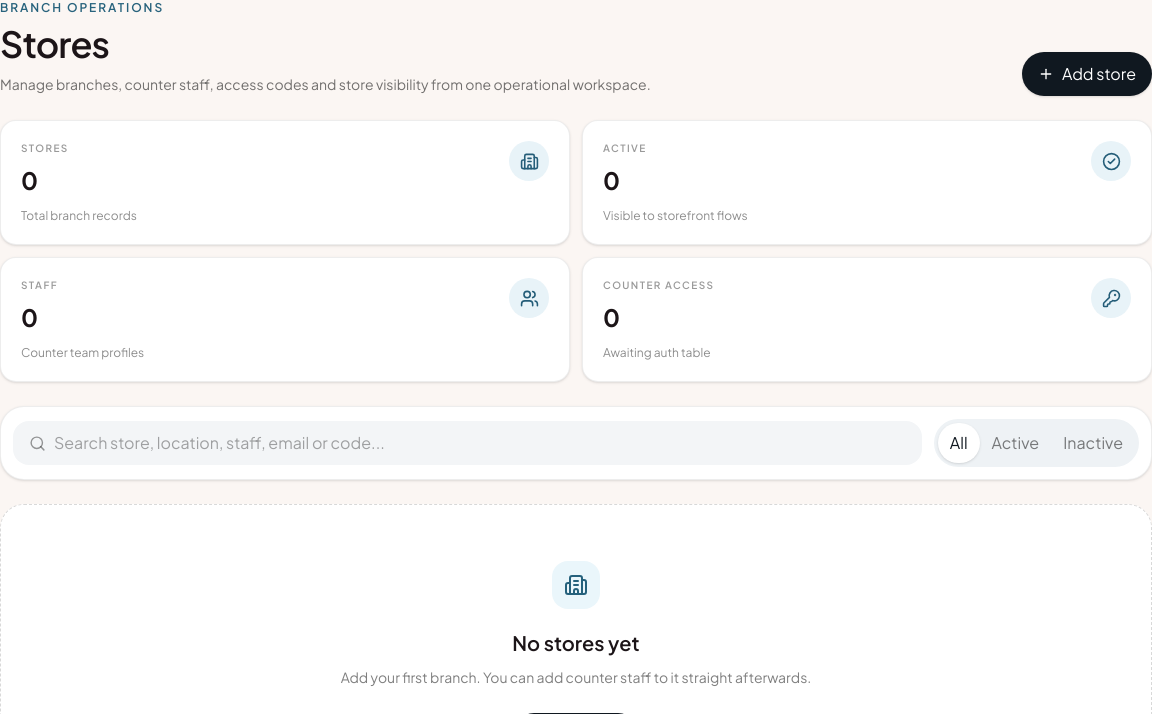
Test: StoreManagement — creating the first store › posts a body the create schema accepts when every optional field is blank
Click the 1st button "Add store".
click(1087, 74)  # box [1022, 52, 1151, 96]
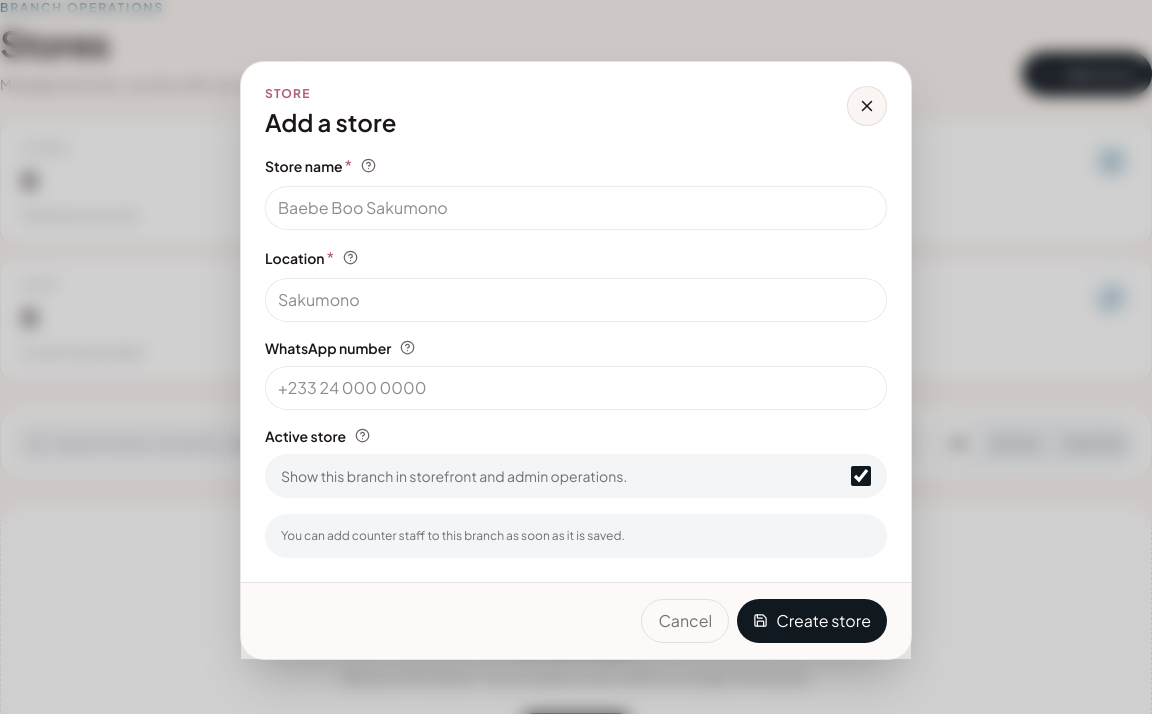
Type "Baebe Boo Sogakope" into the field labelled "Store name".
click(576, 208); type("Baebe Boo Sogakope")  # box [265, 186, 887, 230]
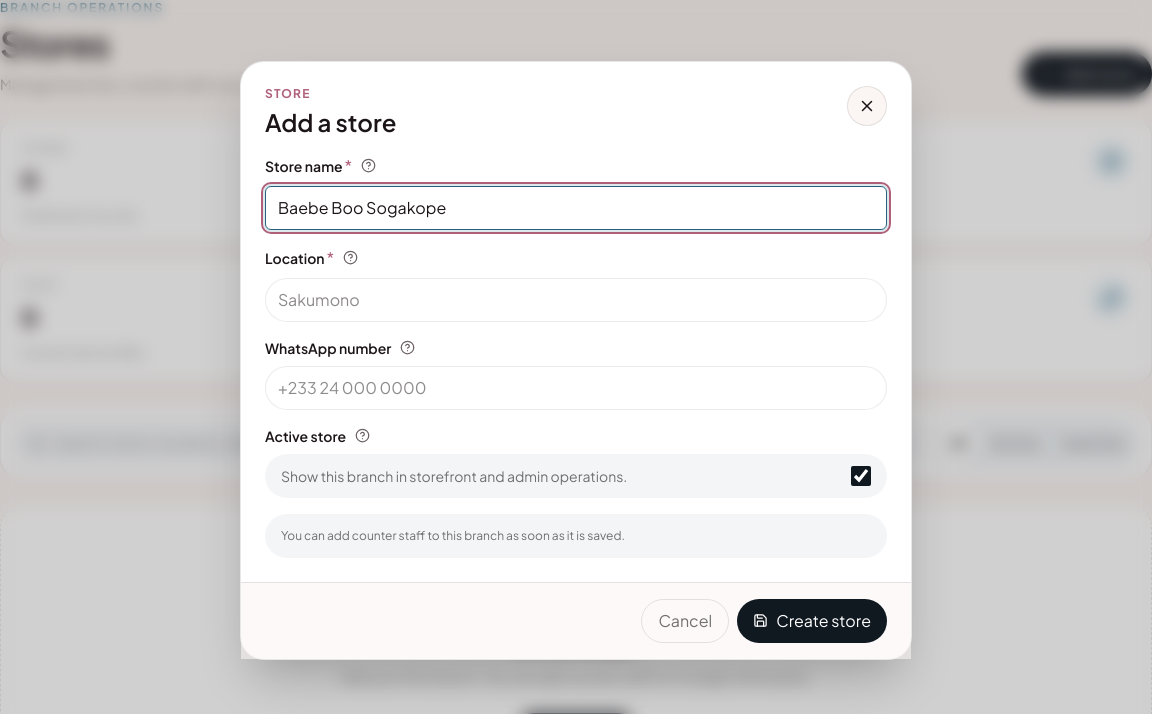
Type "Sogakope" into the field labelled "Location".
click(576, 300); type("Sogakope")  # box [265, 278, 887, 322]
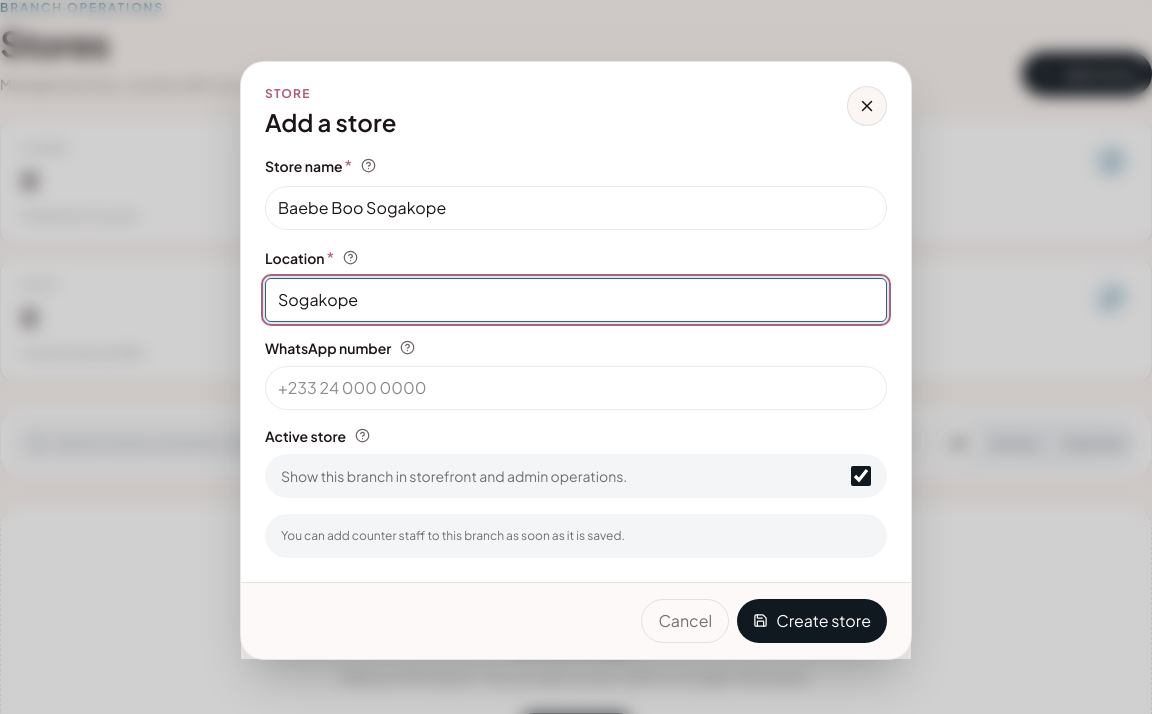
Click the button "Create store".
click(812, 620)  # box [737, 598, 887, 642]
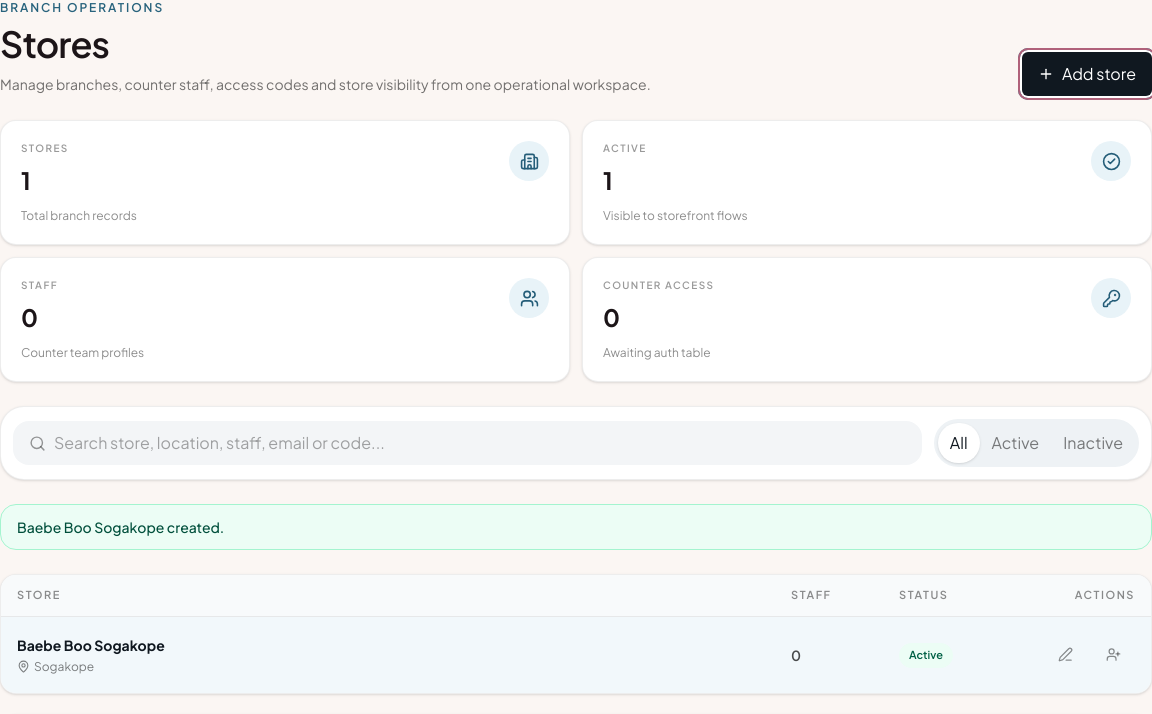
Check: the text "Baebe Boo Sogakope created." is shown, box [0, 504, 1151, 550]
